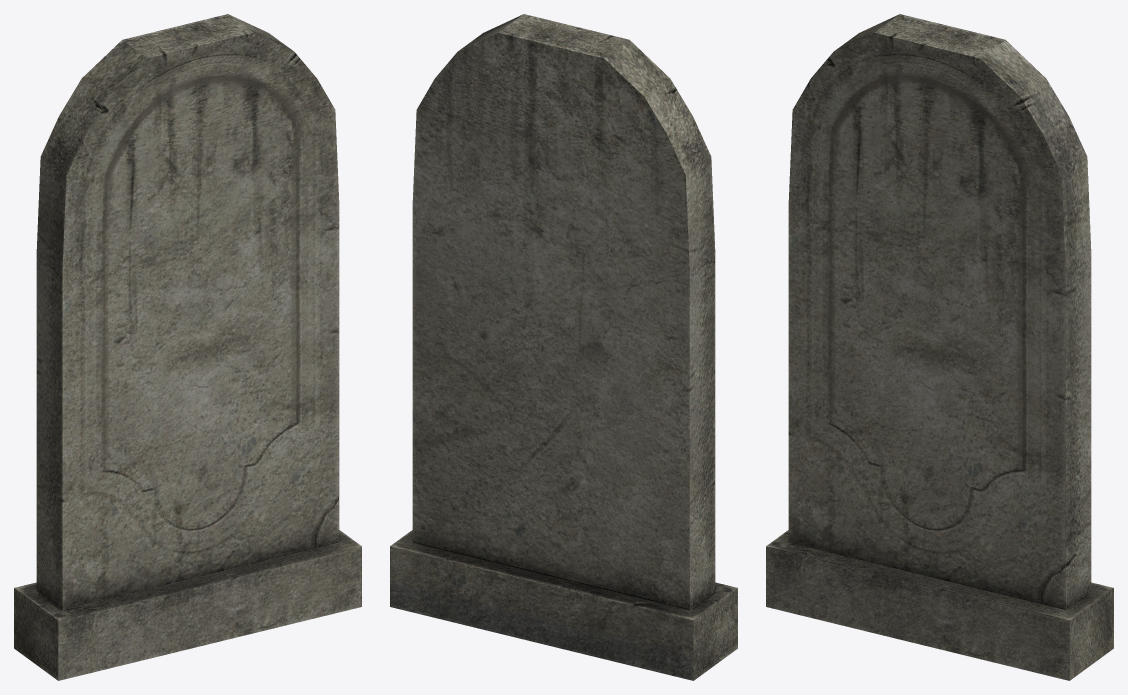
File: Gravestone07.dae
3 renders of one model, left to right at view 1: azimuth 30°, elevation 25°; view 2: azimuth 150°, elevation 25°; view 3: azimuth 330°, elevation 25°, orthographic.
Parts seen in each view (by area): view 1: Gravestone07; view 2: Gravestone07; view 3: Gravestone07.
Boxes of the visible parts, left/top/right/bottom form: Gravestone07: left=14, top=14, right=361, bottom=680; Gravestone07: left=390, top=14, right=737, bottom=680; Gravestone07: left=766, top=14, right=1113, bottom=680.
Bounding box in the file's own units: 0.7248 × 0.1834 × 1.35.
